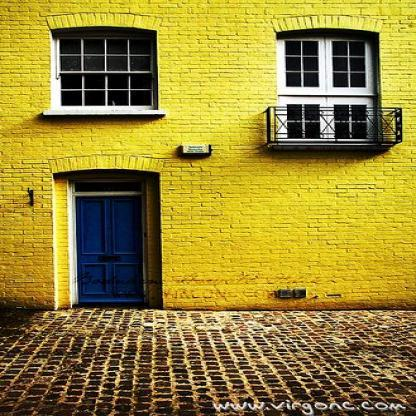Building Outline: (1, 1, 415, 311)
Cornice: (46, 12, 161, 31), (49, 155, 166, 173), (271, 15, 386, 33)
Door: (75, 196, 142, 302)
Door Hole: (52, 169, 163, 310)
Facade: (1, 1, 415, 311)
Floor: (1, 0, 415, 141)
Floor Slab: (1, 141, 415, 147)
Ground Floor: (1, 147, 415, 311)
Window: (276, 28, 382, 141), (51, 26, 159, 111), (75, 182, 141, 192)
